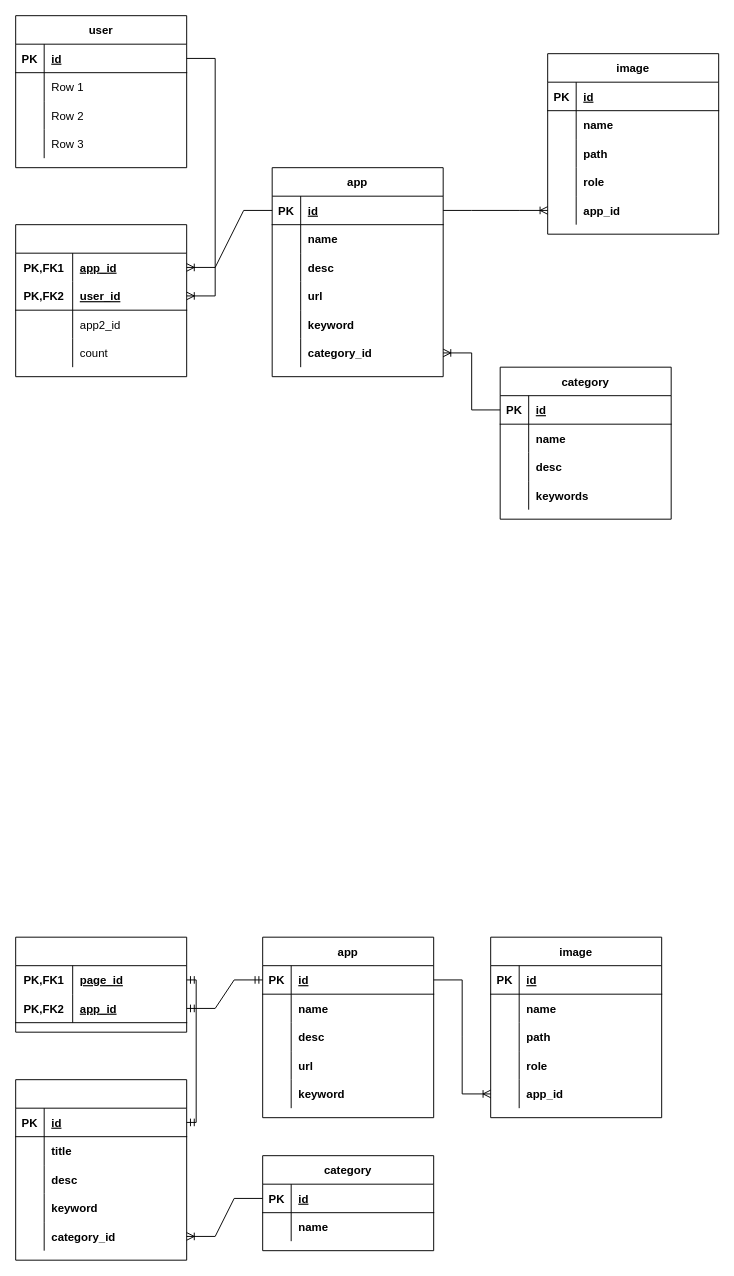
This 734x1276 diagram has some shape labels left out. Each missing label, with the box of its shape:
app_user: (15, 224, 187, 377)
page: (15, 1079, 187, 1260)
page_app: (15, 936, 187, 1032)
